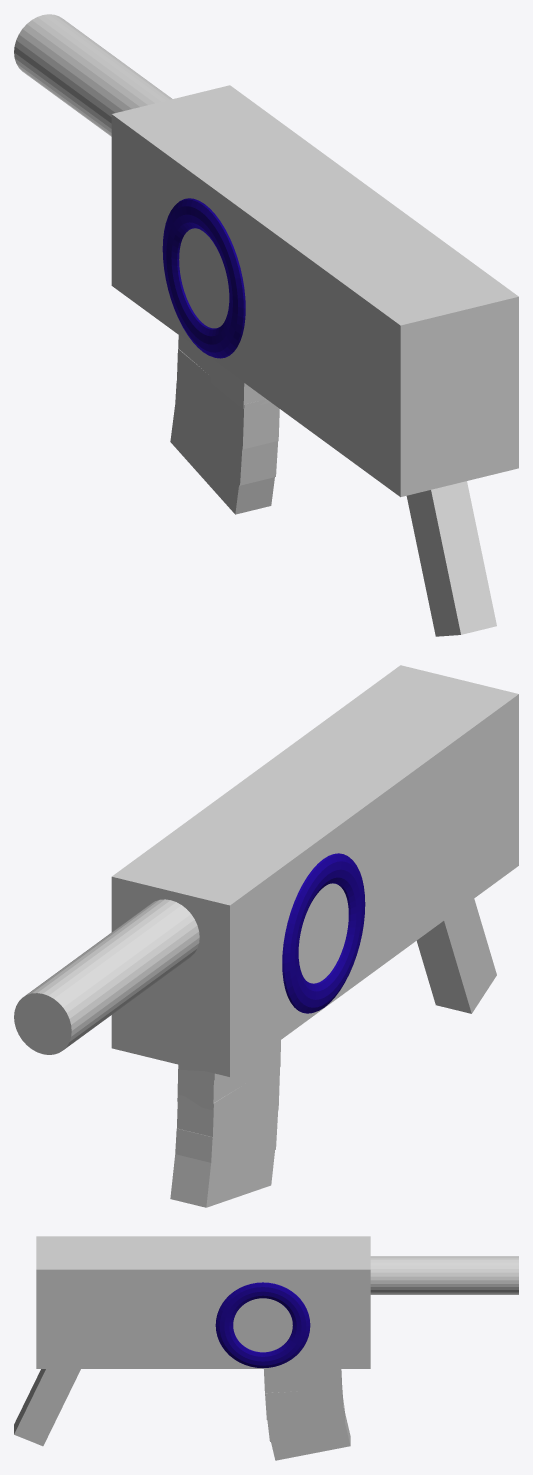
Rendered from Futuristic gun.fbx.
The picture shows the model from 3 angles, top to bottom: view 1: azimuth 30°, elevation 25°; view 2: azimuth 150°, elevation 25°; view 3: azimuth 270°, elevation 25°; orthographic projection. The views are drawn at different scales.
Visible parts, largest first — view 1: Cube, Cube.004, Cylinder, Torus.001, Cube.006, Cube.003, Cube.005, Cube.002; view 2: Cube, Cylinder, Torus.001, Cube.004, Cube.006, Cube.003, Cube.005, Cube.002; view 3: Cube, Cylinder, Torus, Cube.004, Cube.003, Cube.005, Cube.002, Cube.006, Cube.001.
Boxes of the visible parts, x1,y1,x2,y2 form: Cube: [111, 85, 518, 497]; Cube.004: [406, 481, 496, 636]; Cylinder: [14, 14, 172, 136]; Torus.001: [162, 198, 245, 358]; Cube.006: [170, 401, 274, 514]; Cube.003: [176, 348, 279, 449]; Cube.005: [174, 381, 278, 485]; Cube.002: [178, 335, 270, 408]; Cube: [111, 665, 518, 1076]; Cylinder: [14, 899, 199, 1054]; Torus.001: [282, 853, 365, 1013]; Cube.004: [417, 899, 496, 1013]; Cube.006: [170, 1136, 276, 1207]; Cube.003: [177, 1067, 279, 1150]; Cube.005: [175, 1102, 278, 1162]; Cube.002: [177, 1040, 280, 1110]; Cube: [36, 1236, 370, 1368]; Cylinder: [370, 1256, 518, 1294]; Torus: [215, 1282, 310, 1367]; Cube.004: [14, 1369, 80, 1446]; Cube.003: [265, 1385, 343, 1419]; Cube.005: [267, 1398, 346, 1441]; Cube.002: [264, 1369, 341, 1394]; Cube.006: [271, 1413, 350, 1460]; Cube.001: [264, 1369, 340, 1375].
Bounding box in the file's own units: 44.44 × 116 × 262.
